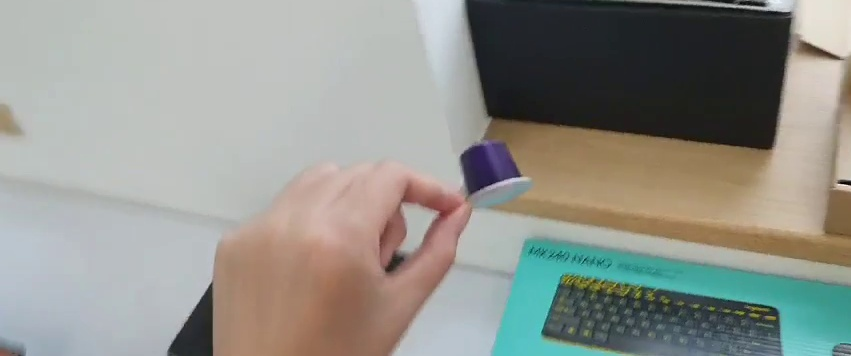capsule_11: (455, 137, 532, 210)
